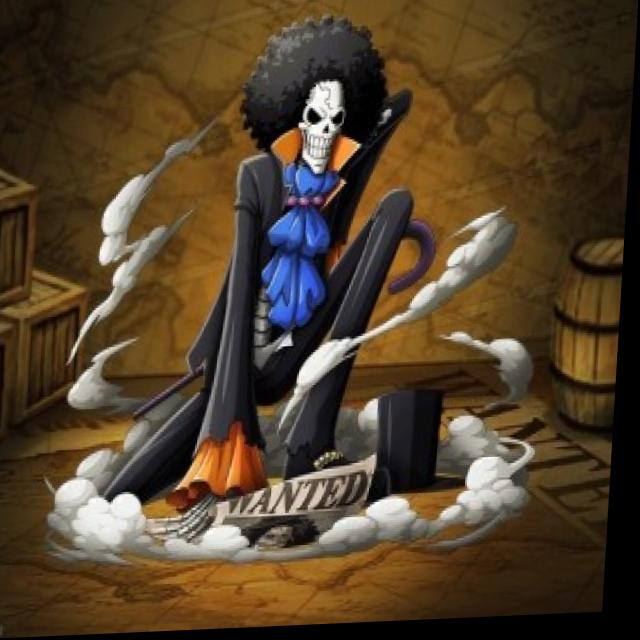Blook: (242, 2, 405, 204)
